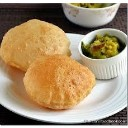poori: (25, 54, 95, 108), (2, 18, 70, 70)
